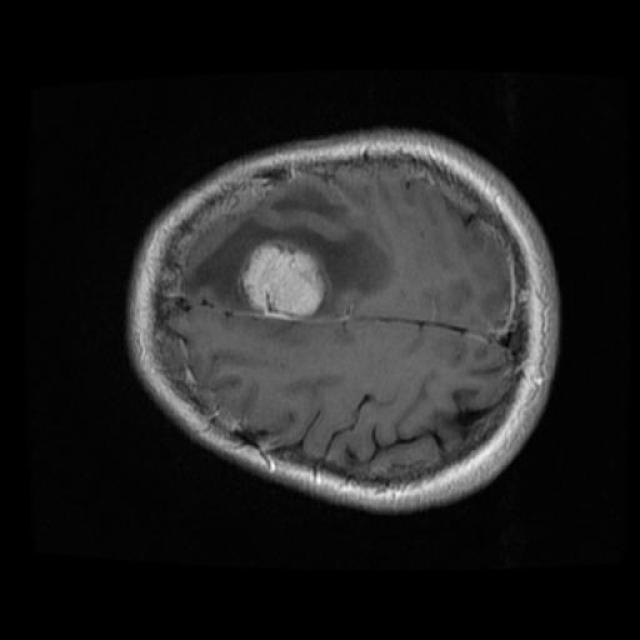Meningioma: (242, 241, 325, 317)
